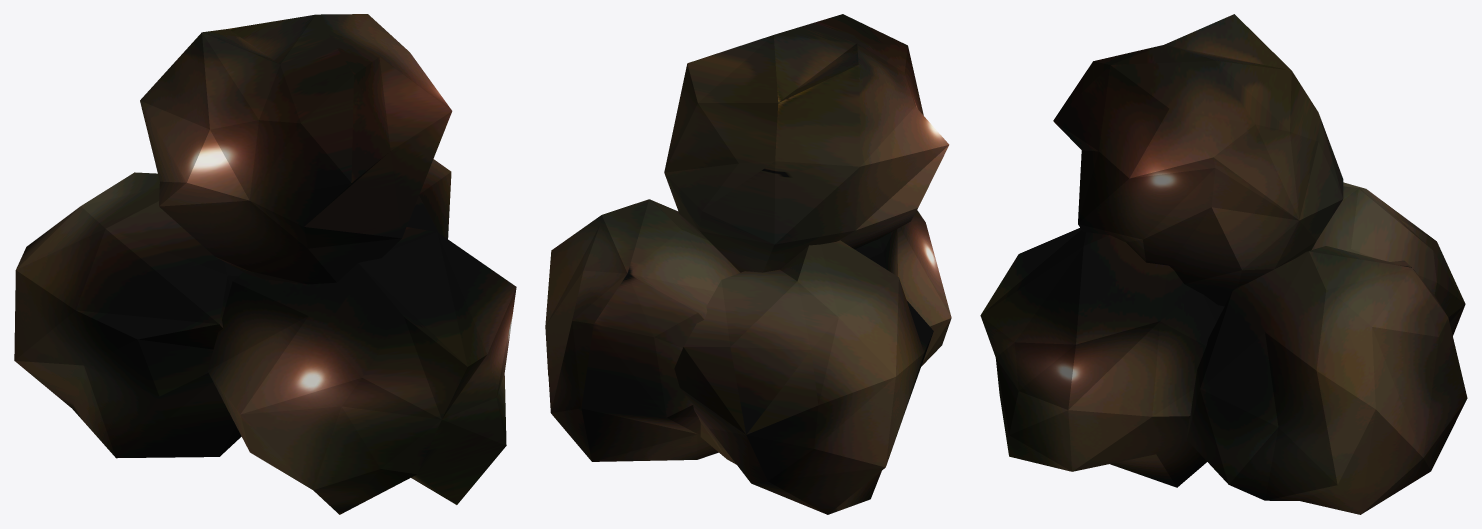
The model's file is Rockz.glb.
The picture shows the model from 3 angles, left to right: view 1: azimuth 30°, elevation 25°; view 2: azimuth 150°, elevation 25°; view 3: azimuth 270°, elevation 25°; orthographic projection. The views are drawn at different scales.
Parts seen in each view (by area): view 1: Rockz; view 2: Rockz; view 3: Rockz.
Part boxes in pixels (<box>): Rockz: <box>14,14,516,514</box>; Rockz: <box>545,14,951,514</box>; Rockz: <box>980,14,1467,514</box>.
Bounding box in the file's own units: 81.28 × 85.22 × 91.29.
Materials: 1 (1 with a texture image).
